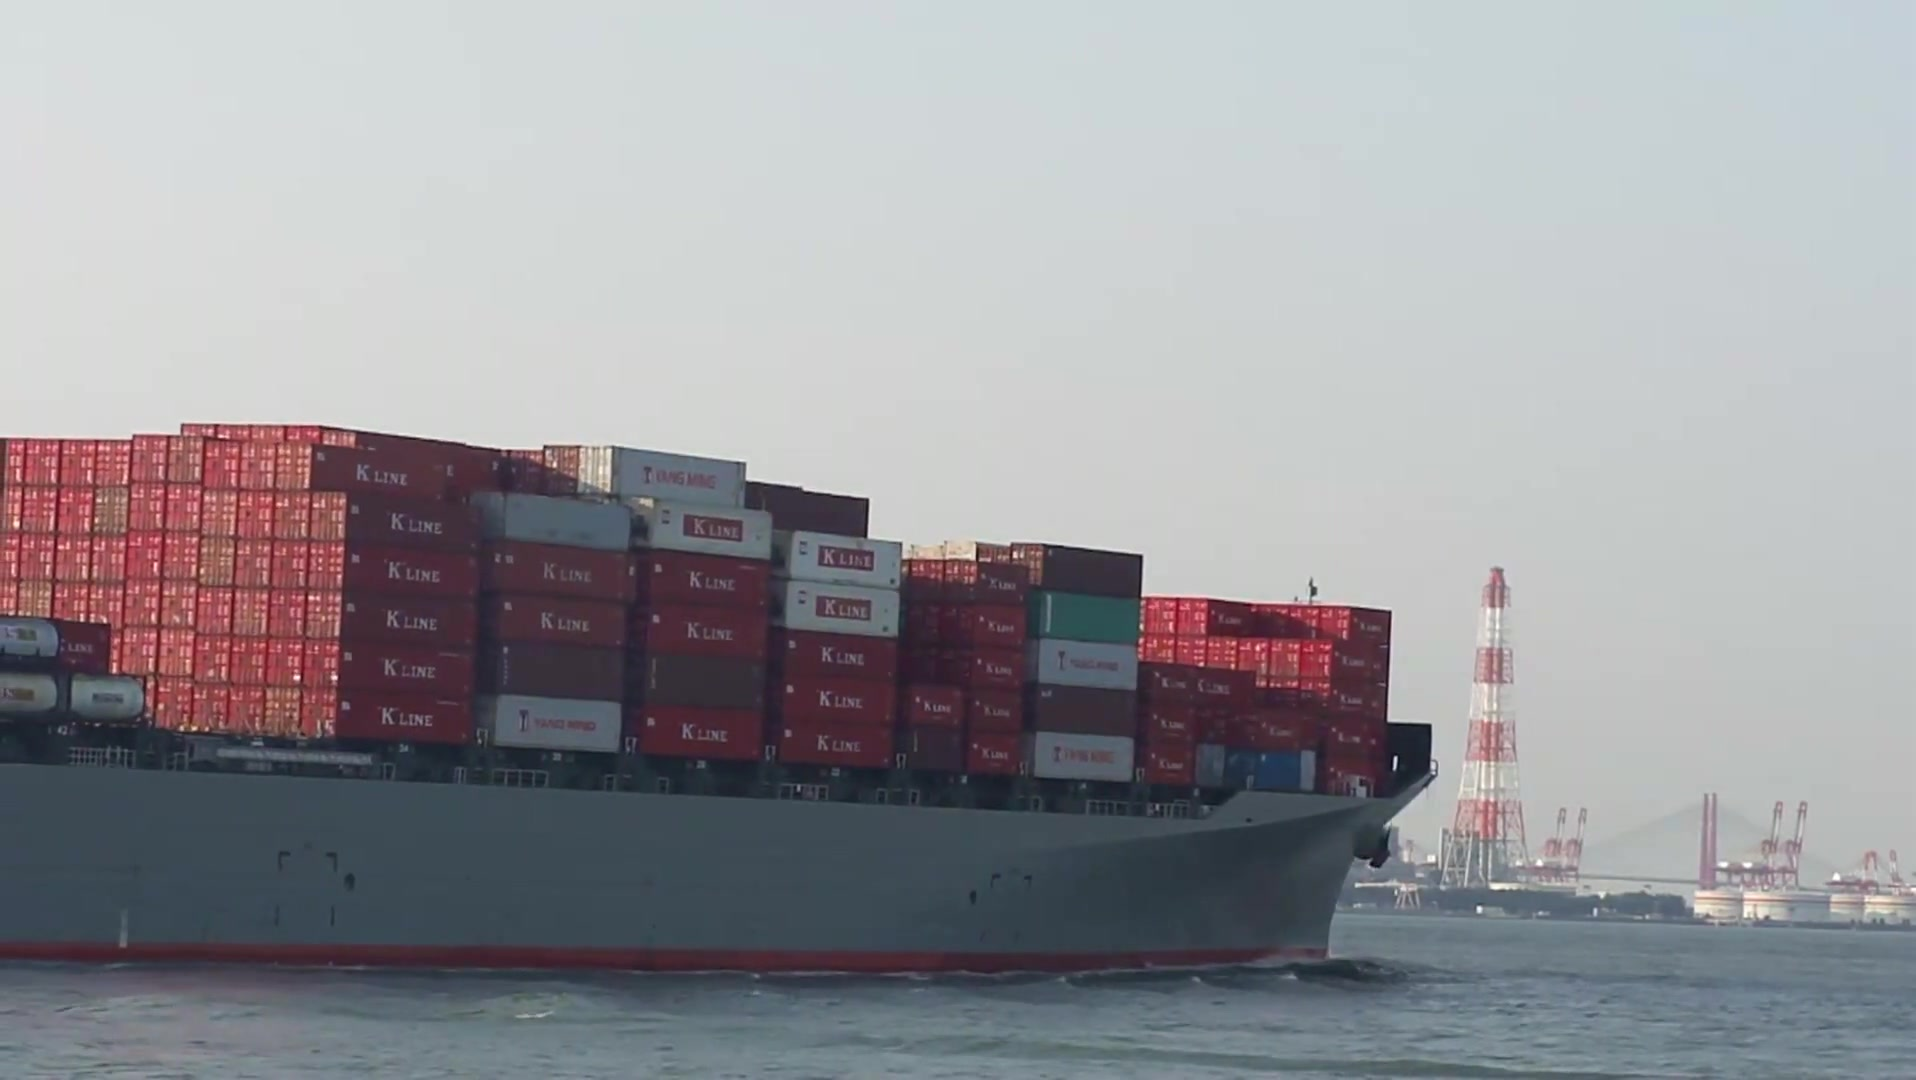boat: (1, 416, 1440, 977), (1355, 570, 1698, 934)
